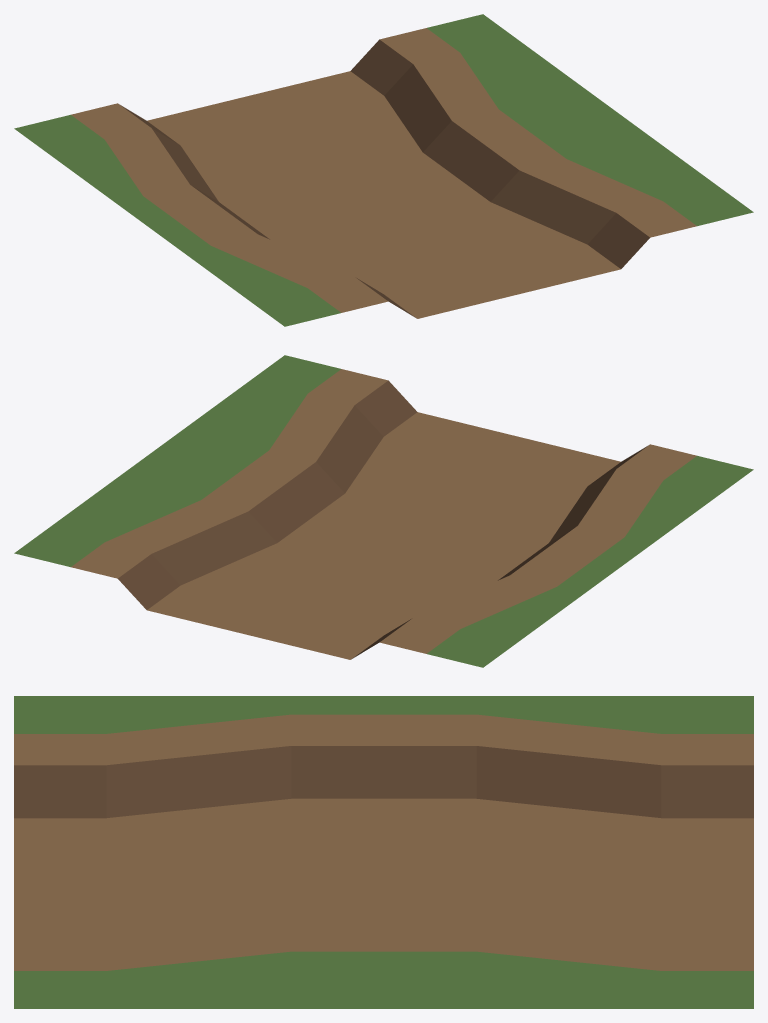
The model's file is path-gravel.glb.
3 renders of one model, top to bottom at view 1: azimuth 30°, elevation 25°; view 2: azimuth 150°, elevation 25°; view 3: azimuth 270°, elevation 25°, orthographic. The views are drawn at different scales.
Visible parts, largest first — view 1: ground_pathStraight; view 2: ground_pathStraight; view 3: ground_pathStraight.
Part boxes in pixels (x1,y1,x2,y2): ground_pathStraight: (14,14,753,326); ground_pathStraight: (14,355,753,667); ground_pathStraight: (14,696,753,1008).
Bounding box in the file's own units: 2 × 0.1001 × 2.
